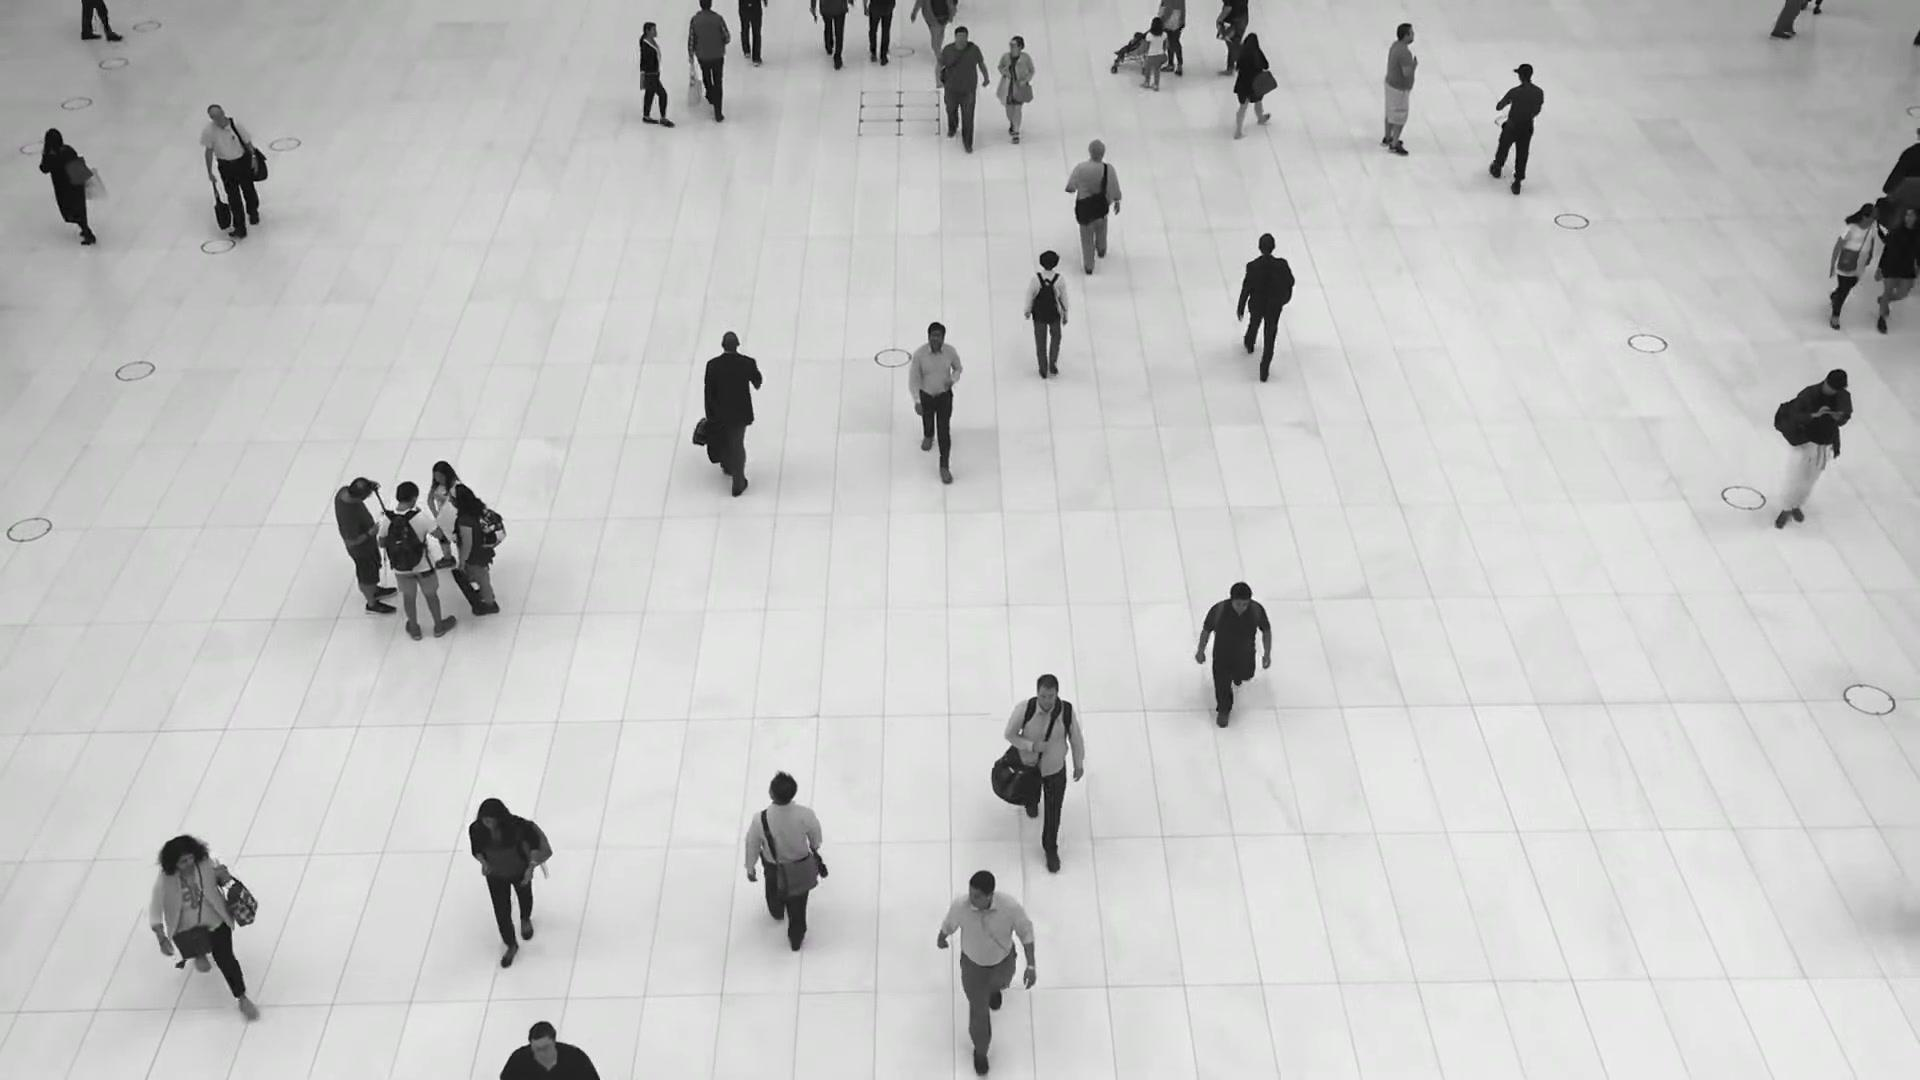person: (147, 834, 260, 1022), (938, 865, 1039, 1059), (1002, 670, 1084, 864), (744, 771, 826, 958), (377, 479, 459, 639), (1775, 370, 1851, 538), (467, 798, 539, 972), (1198, 578, 1274, 732), (699, 331, 765, 500), (334, 468, 400, 613), (906, 317, 964, 475), (1234, 230, 1295, 377), (197, 103, 260, 236), (1066, 139, 1123, 276), (932, 23, 989, 150), (39, 127, 97, 248), (449, 483, 501, 614), (1827, 202, 1879, 327), (1026, 252, 1072, 392), (1494, 62, 1543, 193), (1873, 206, 1919, 339), (630, 21, 680, 126), (686, 0, 731, 116), (1380, 22, 1418, 156), (425, 459, 462, 580), (995, 36, 1035, 148), (1231, 29, 1271, 135), (1139, 16, 1166, 91)
